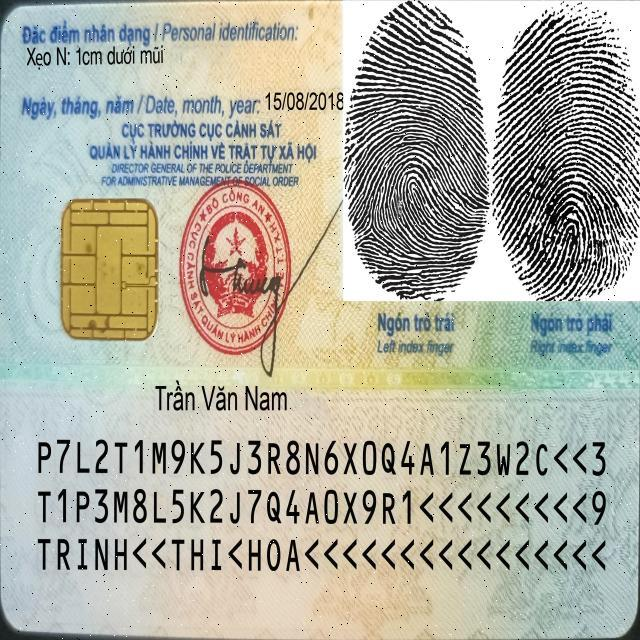features: (23, 42, 167, 74)
finger_print: (343, 0, 497, 357), (489, 0, 640, 356)
issue_date: (262, 84, 347, 118)
